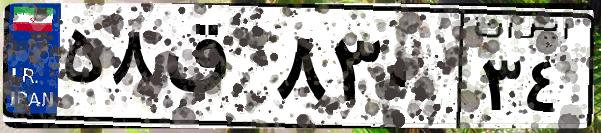0: (385, 28, 445, 110)
3: (330, 28, 385, 110), (475, 38, 525, 113)
4: (525, 38, 570, 115)
5: (57, 26, 110, 100)
8: (270, 28, 330, 110), (110, 28, 158, 98)
ق: (158, 20, 270, 120)
